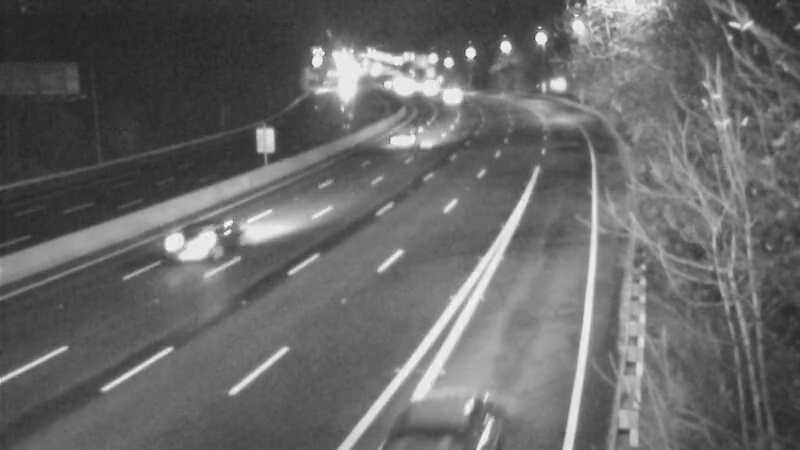vehicle: (372, 359, 482, 450), (157, 194, 237, 274), (402, 63, 452, 113), (424, 72, 474, 122), (379, 119, 429, 169)
